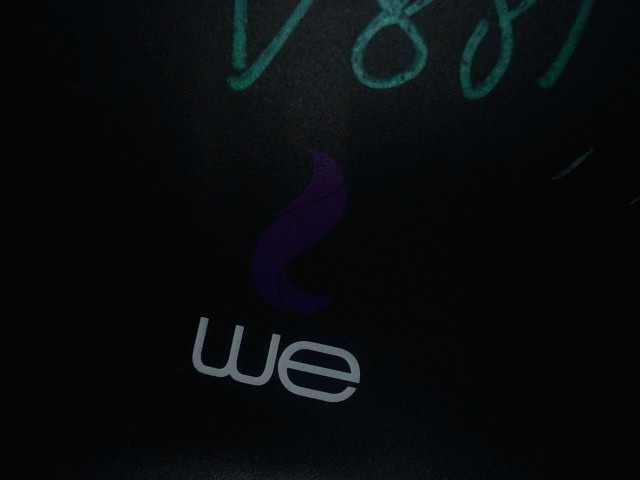AT_We: (186, 140, 381, 408)
